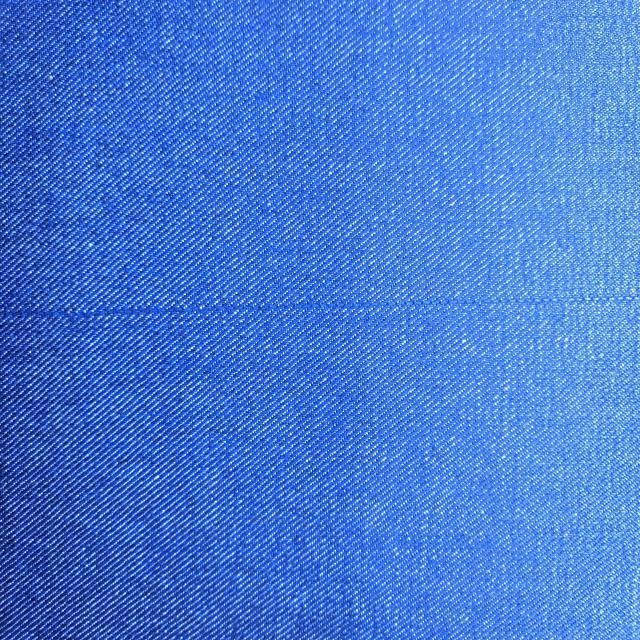Line: (0, 290, 638, 322)
